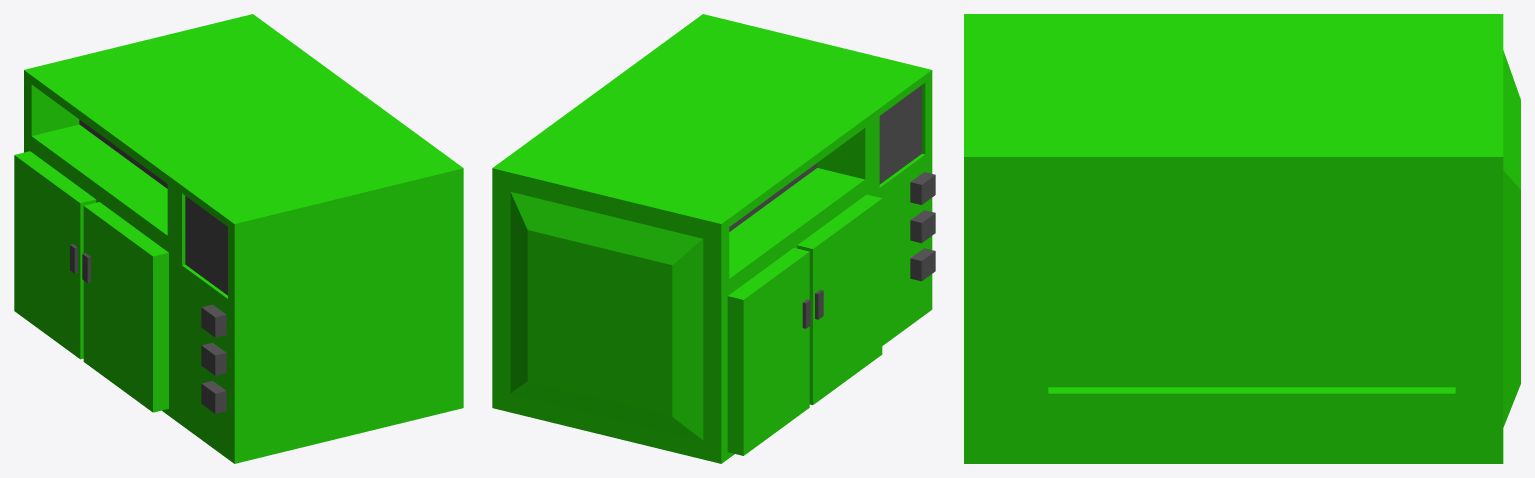
File: urineprocessor.glb
3 views of the same model, side by side, from view 1: azimuth 30°, elevation 25°; view 2: azimuth 150°, elevation 25°; view 3: azimuth 270°, elevation 25° (orthographic). The views are drawn at different scales.
Visible parts, largest first — view 1: Cube.084; view 2: Cube.084; view 3: Cube.084.
Part boxes in pixels (x1,y1,x2,y2): Cube.084: (14, 14, 463, 463); Cube.084: (492, 14, 935, 463); Cube.084: (964, 14, 1520, 463).
Bounding box in the file's own units: 2.17 × 2 × 3.29.
